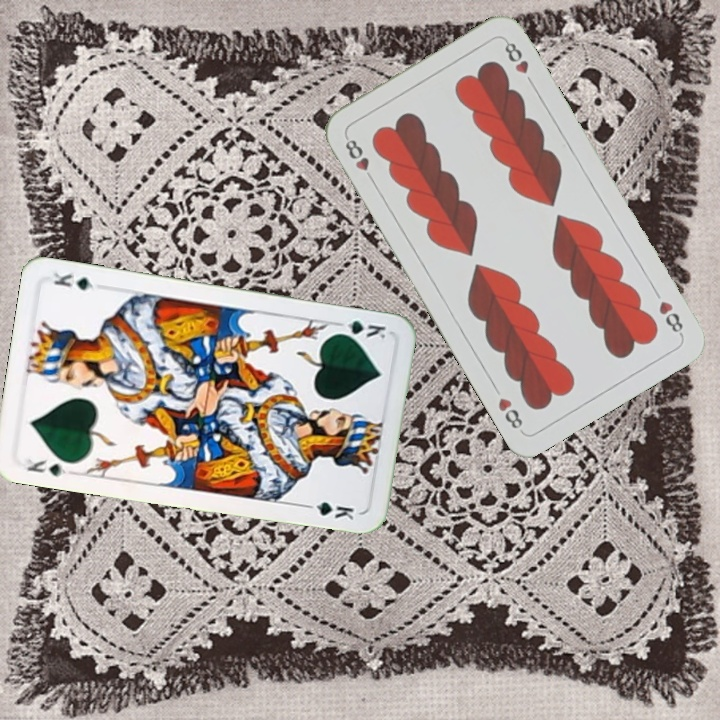GK: (331, 316, 388, 341), (19, 454, 69, 479)
H8: (341, 133, 378, 185), (654, 296, 686, 339)
